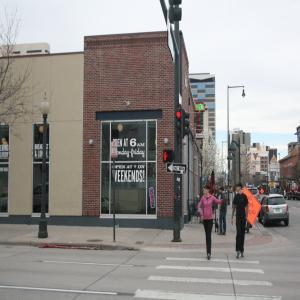Vehicle-registration-plate: (277, 209, 281, 213)
